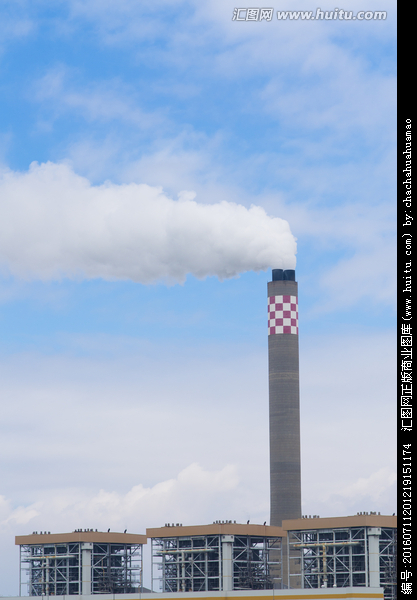dust: (3, 154, 307, 300)
